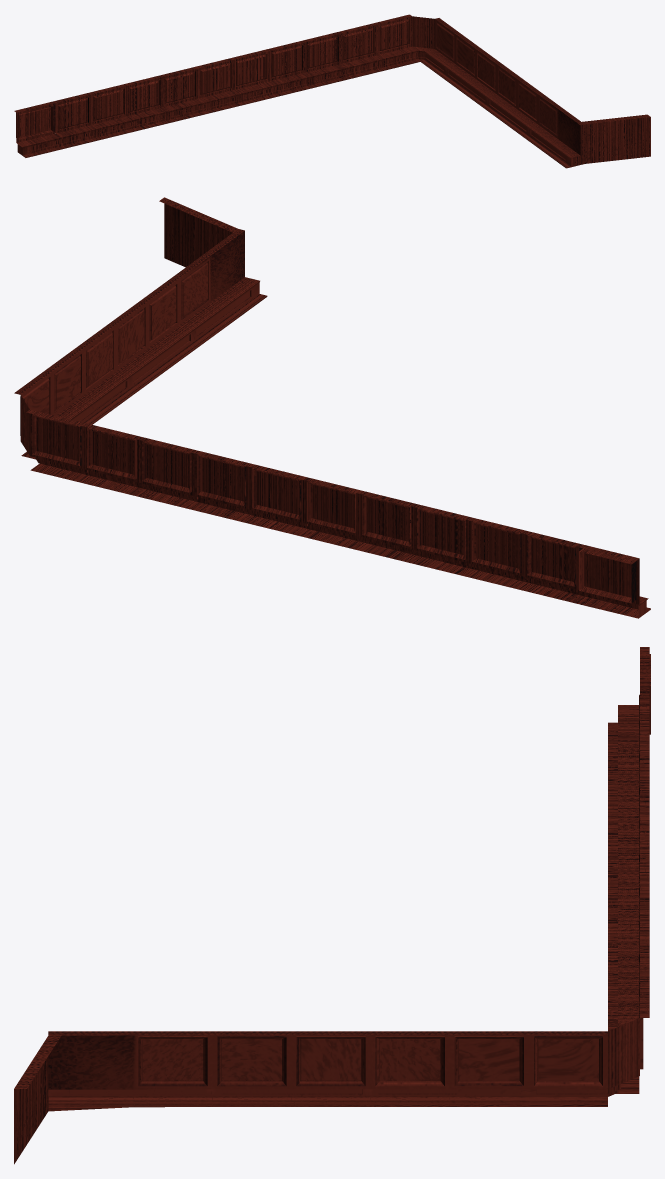
File: Shelf_Top.glb
3 views of the same model, one above another, from view 1: azimuth 30°, elevation 25°; view 2: azimuth 150°, elevation 25°; view 3: azimuth 270°, elevation 25° (orthographic). The views are drawn at different scales.
Visible parts, largest first — view 1: ShelfTop.006; view 2: ShelfTop.006; view 3: ShelfTop.006.
Boxes of the visible parts, box(x1,y1,x2,y2) form: ShelfTop.006: box(14, 14, 650, 168); ShelfTop.006: box(14, 197, 650, 618); ShelfTop.006: box(14, 647, 650, 1164).
Size of the model in its own units: 9.57 by 0.7672 by 5.83.
Materials: 1 (1 with a texture image).
